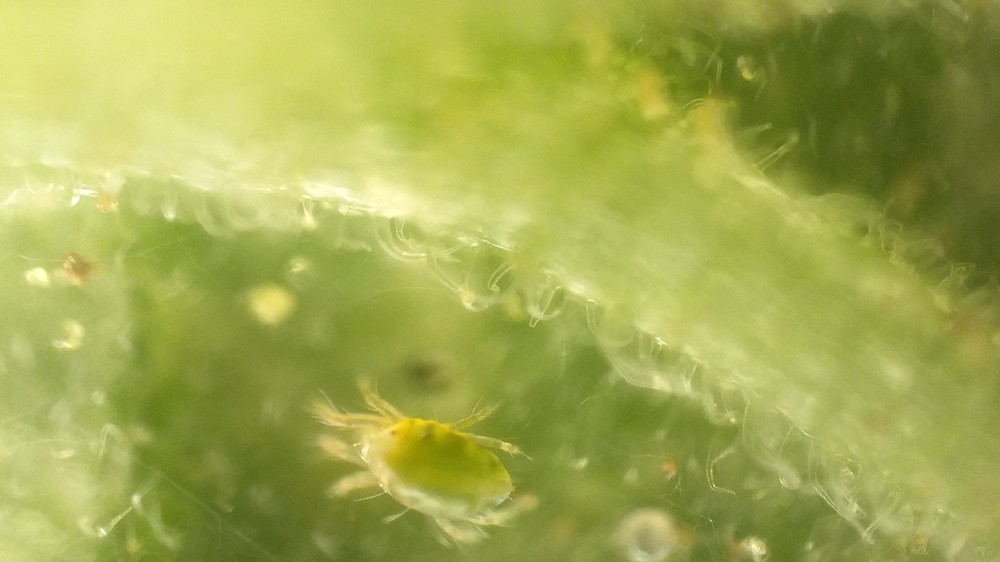Aracnido Rojo: (302, 368, 557, 556)
